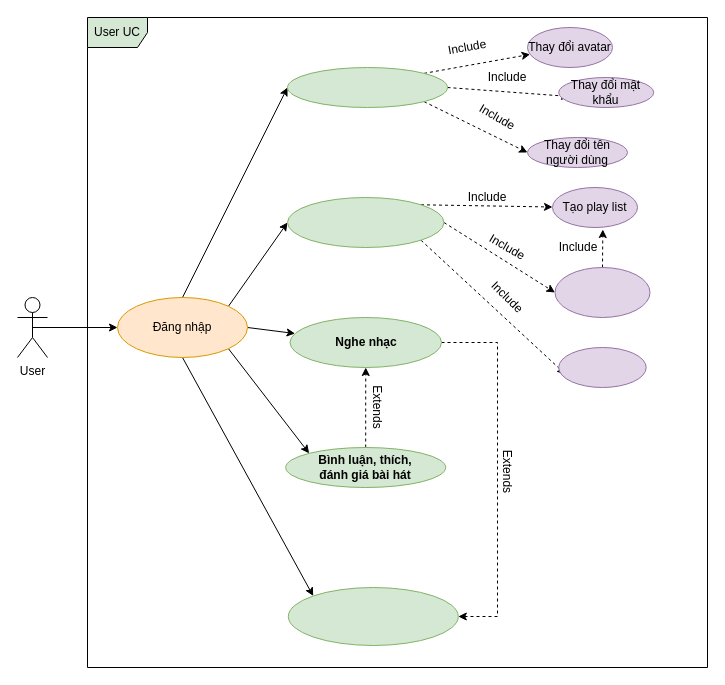
The diagram is 725 pixels wide and 685 high, and some of its shapes have lost their labels. The shapes that lost their labels are listed below. From the top down, each one's centre as x and y in pixels, then its label:
the point at 367,87: Quản lý tài khoản cá nhân
the point at 365,222: Quản lý playlist cá nhân
the point at 602,292: Thêm nhạc vào playlist
the point at 602,367: Xóa playlist
the point at 372,616: Tìm kiếm bài hát, ca sĩ
